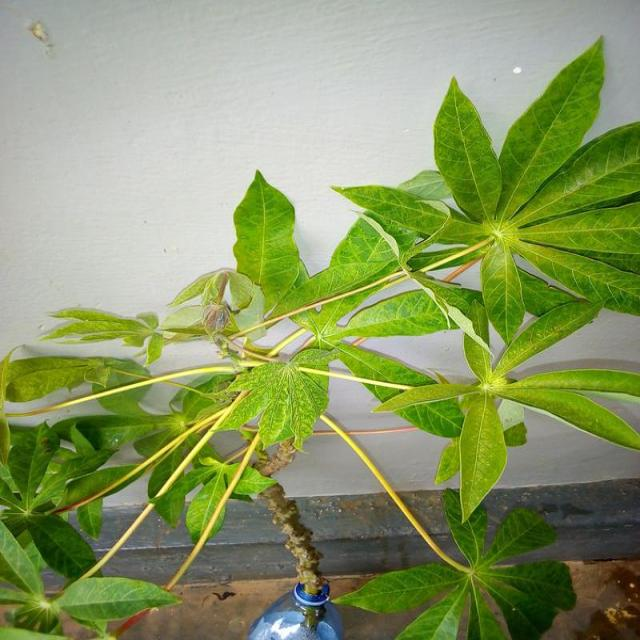cassava leaf: (2, 34, 639, 635), (233, 167, 303, 319), (434, 75, 504, 225)
